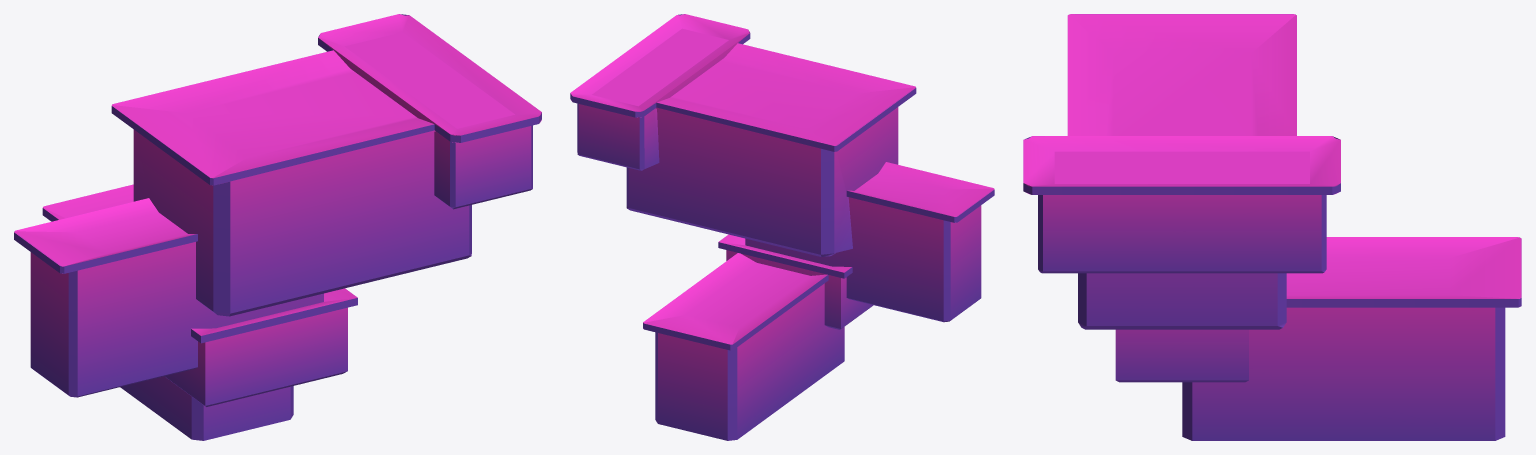
The model's file is fav6.fbx.
The picture shows the model from 3 angles, left to right: view 1: azimuth 30°, elevation 25°; view 2: azimuth 150°, elevation 25°; view 3: azimuth 270°, elevation 25°; orthographic projection. The views are drawn at different scales.
Parts seen in each view (by area): view 1: favelaBuilding_2; view 2: favelaBuilding_2; view 3: favelaBuilding_2.
Boxes of the visible parts, x1,y1,x2,y2 form: favelaBuilding_2: [14, 14, 541, 440]; favelaBuilding_2: [570, 14, 994, 440]; favelaBuilding_2: [1023, 14, 1521, 440].
Size of the model in its own units: 1239 by 839 by 1075.
